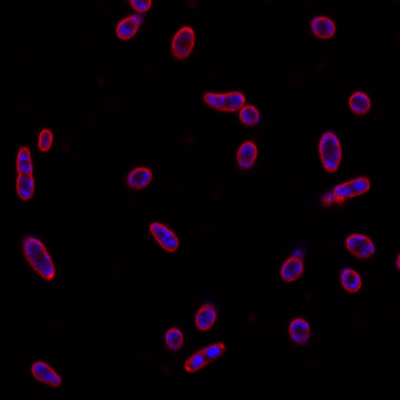Mecillinam: (20, 236, 57, 280), (15, 144, 36, 202), (318, 130, 344, 173), (200, 89, 246, 110), (149, 222, 179, 253), (31, 359, 61, 389), (308, 13, 336, 40), (124, 166, 153, 190), (235, 141, 257, 170), (338, 268, 362, 294), (347, 91, 371, 115)
Oblique: (320, 175, 370, 207), (279, 245, 308, 282), (169, 24, 196, 60), (344, 231, 376, 258), (112, 14, 142, 41), (194, 303, 221, 331), (287, 316, 313, 343), (163, 326, 185, 351)
